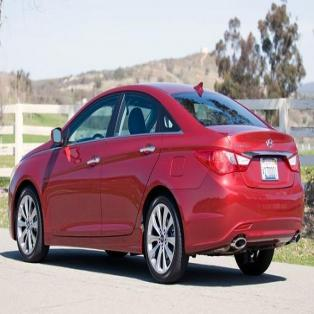Auto: (5, 82, 304, 280)
